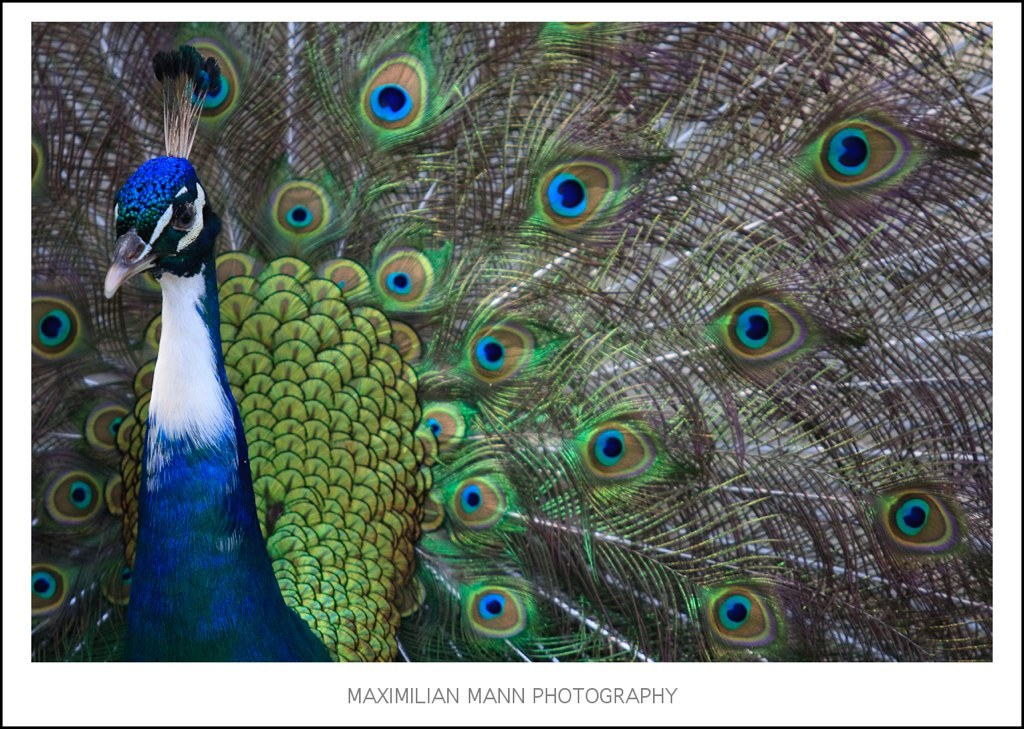Bird: (31, 22, 993, 662)
